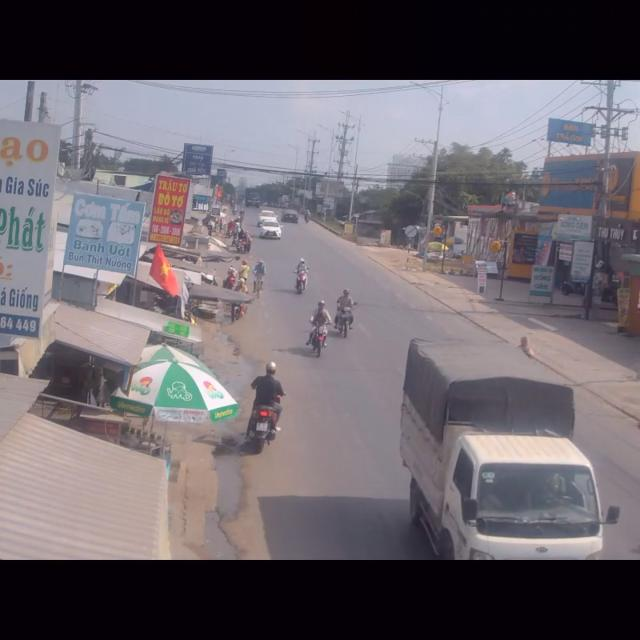motorbike: (250, 359, 286, 454), (305, 302, 327, 362), (336, 286, 356, 342), (293, 255, 307, 295)
truck: (400, 327, 612, 559)
